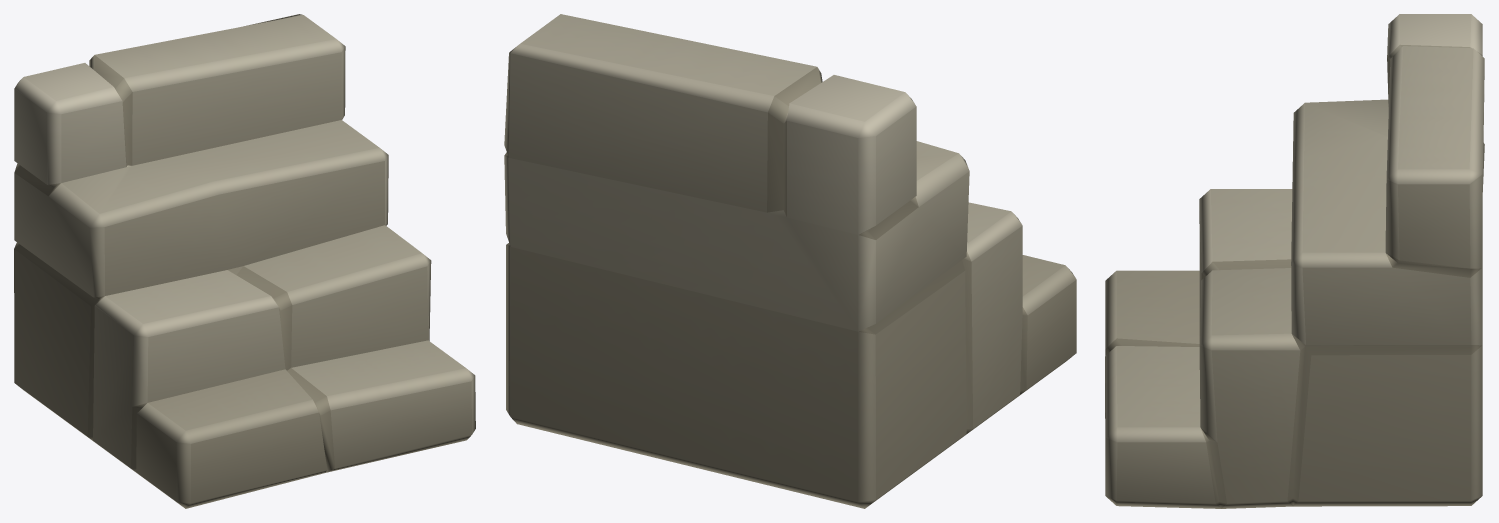
Rendered from orc_stairs_shade_2.fbx.
The picture shows the model from 3 angles, left to right: view 1: azimuth 30°, elevation 25°; view 2: azimuth 150°, elevation 25°; view 3: azimuth 270°, elevation 25°; orthographic projection. The views are drawn at different scales.
Parts seen in each view (by area): view 1: orc_stairs_shade_2; view 2: orc_stairs_shade_2; view 3: orc_stairs_shade_2.
Part boxes in pixels (box(x1,y1,x2,y2)): orc_stairs_shade_2: box(14, 14, 475, 508); orc_stairs_shade_2: box(504, 14, 1076, 508); orc_stairs_shade_2: box(1105, 14, 1484, 508).
Size of the model in its own units: 101 by 102 by 101.
